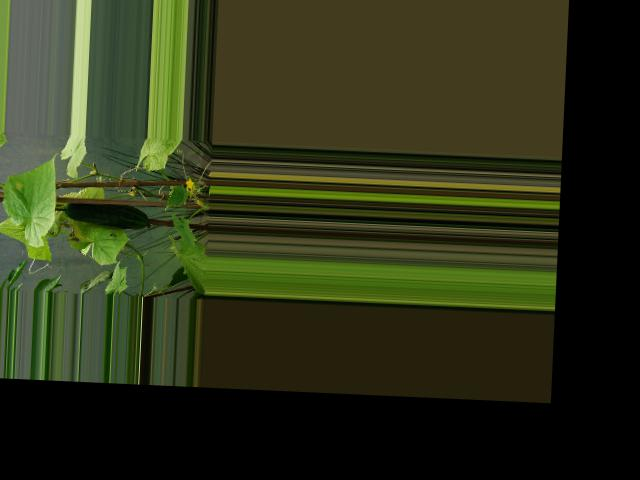cucumber: (64, 201, 150, 230)
